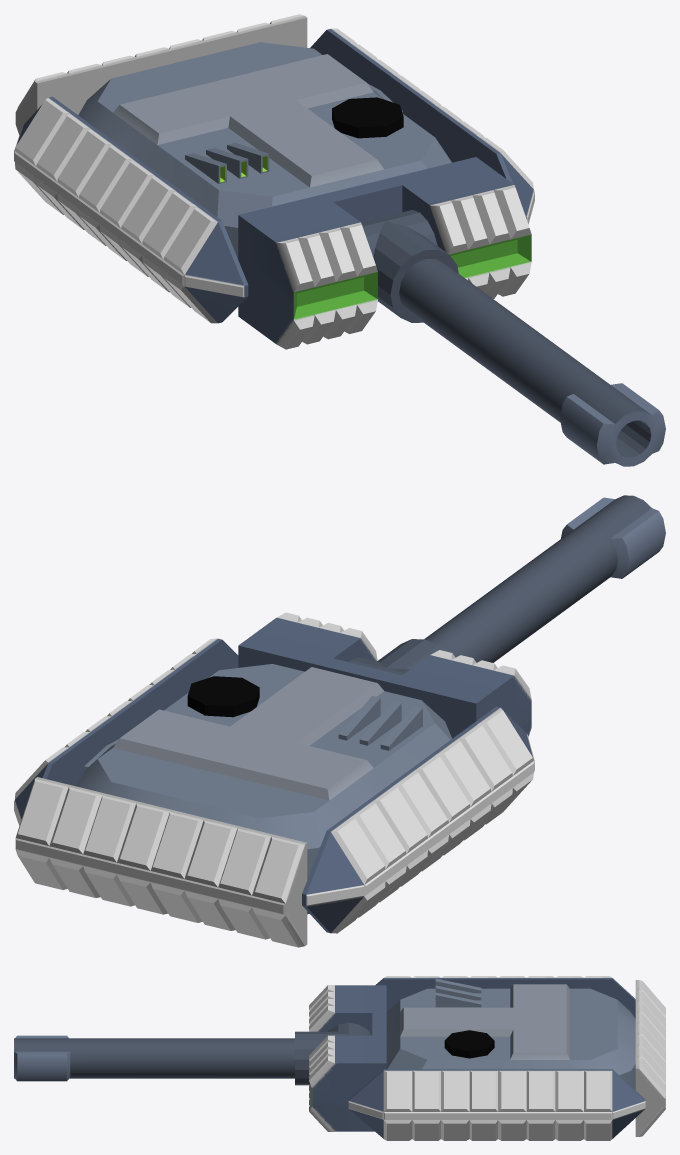
File: TankWeapon_Cannon_00.fbx
3 views of the same model, one above another, from view 1: azimuth 30°, elevation 25°; view 2: azimuth 150°, elevation 25°; view 3: azimuth 270°, elevation 25° (orthographic). The views are drawn at different scales.
Visible parts, largest first — view 1: WeaponBaseT1, Cannon; view 2: WeaponBaseT1, Cannon; view 3: WeaponBaseT1, Cannon.
Part boxes in pixels (left/top/right/bottom): WeaponBaseT1: left=14, top=14, right=534, bottom=349; Cannon: left=361, top=210, right=665, bottom=466; WeaponBaseT1: left=14, top=612, right=534, bottom=947; Cannon: left=349, top=495, right=665, bottom=675; WeaponBaseT1: left=309, top=976, right=665, bottom=1140; Cannon: left=14, top=1022, right=371, bottom=1085.
Bounding box in the file's own units: 41.87 × 13.86 × 99.68.
